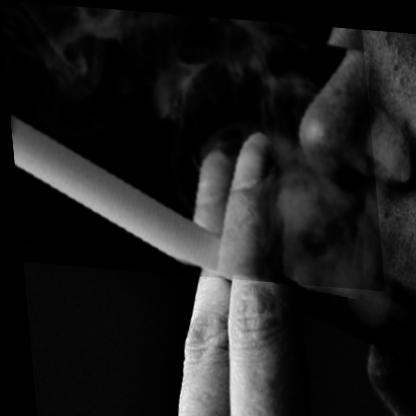smoke: (0, 0, 380, 285)
